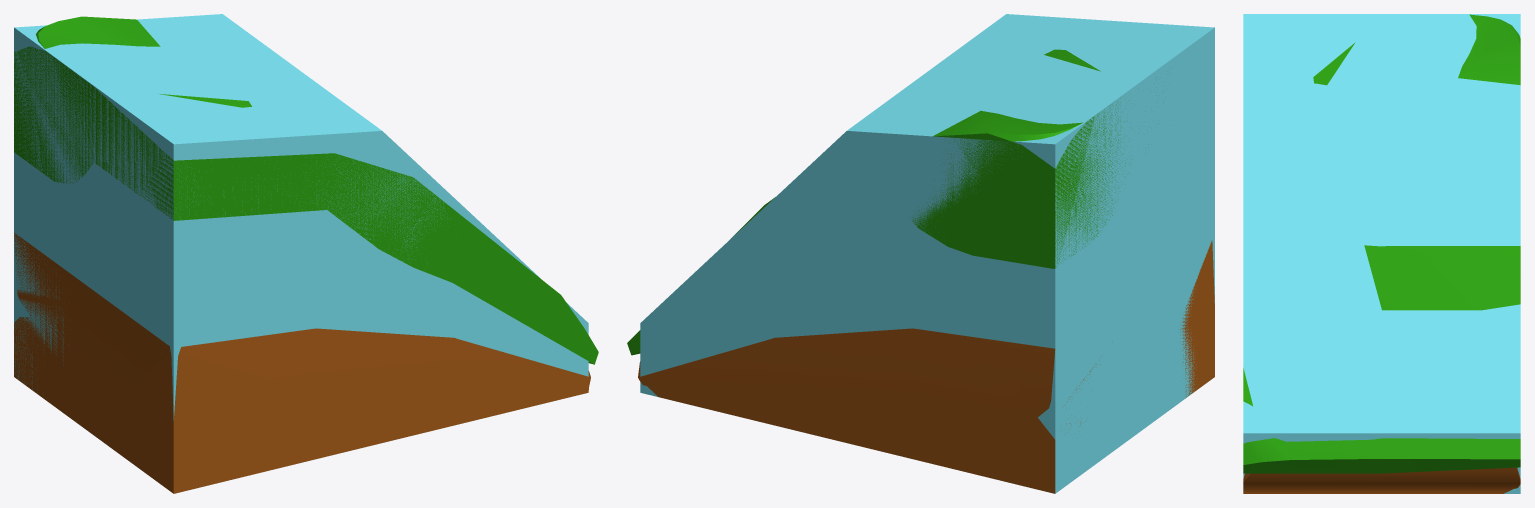
Rendered from PBOX23_ Slope_Grass_01.FBX.
3 views of the same model, side by side, from view 1: azimuth 30°, elevation 25°; view 2: azimuth 150°, elevation 25°; view 3: azimuth 270°, elevation 25° (orthographic). The views are drawn at different scales.
Parts seen in each view (by area): view 1: PBOX23_ Slope_Grass_01, PBOX23_SUB_TAB_MUD_002, PBOX23_SUB_Grass_003; view 2: PBOX23_ Slope_Grass_01, PBOX23_SUB_TAB_MUD_002, PBOX23_SUB_Grass_003; view 3: PBOX23_ Slope_Grass_01, PBOX23_SUB_Grass_003, PBOX23_SUB_TAB_MUD_002.
Part boxes in pixels (box(x1,y1,x2,y2)): PBOX23_ Slope_Grass_01: box(14, 14, 588, 420); PBOX23_SUB_TAB_MUD_002: box(14, 232, 590, 493); PBOX23_SUB_Grass_003: box(14, 16, 598, 364); PBOX23_ Slope_Grass_01: box(640, 14, 1214, 493); PBOX23_SUB_TAB_MUD_002: box(638, 240, 1214, 493); PBOX23_SUB_Grass_003: box(627, 49, 1158, 355); PBOX23_ Slope_Grass_01: box(1243, 14, 1520, 493); PBOX23_SUB_Grass_003: box(1243, 14, 1520, 473); PBOX23_SUB_TAB_MUD_002: box(1243, 467, 1520, 493).
Size of the model in its own units: 18.59 by 14.5 by 12.
